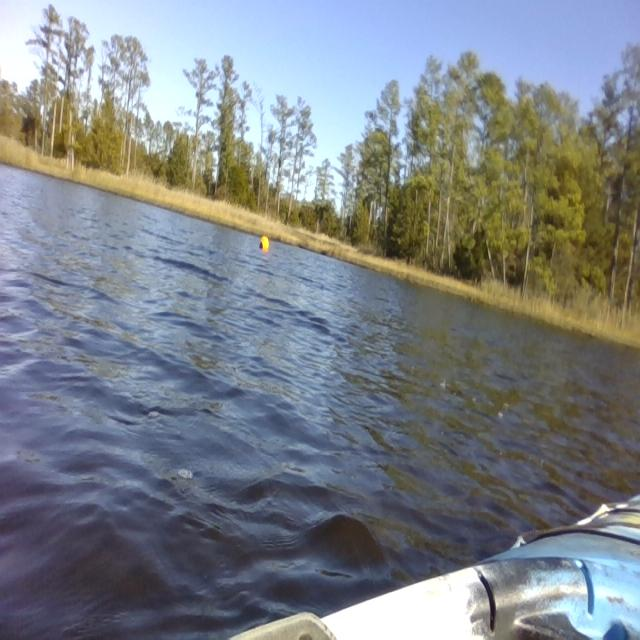Buoy: (257, 232, 274, 254)
